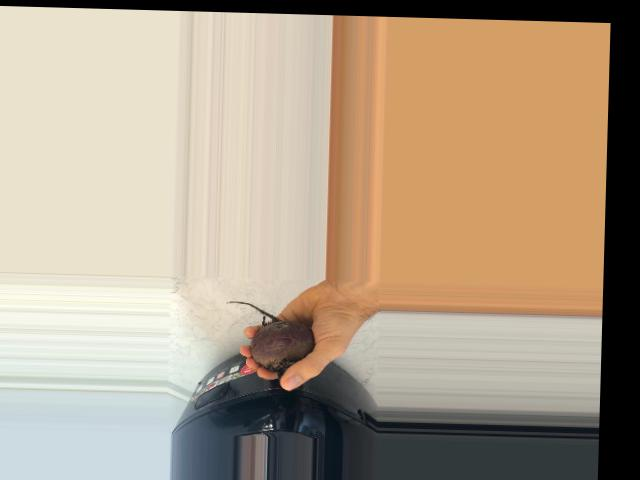beet: (224, 300, 315, 379)
